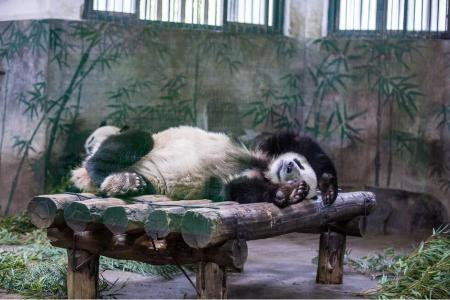panda: (81, 123, 338, 207)
